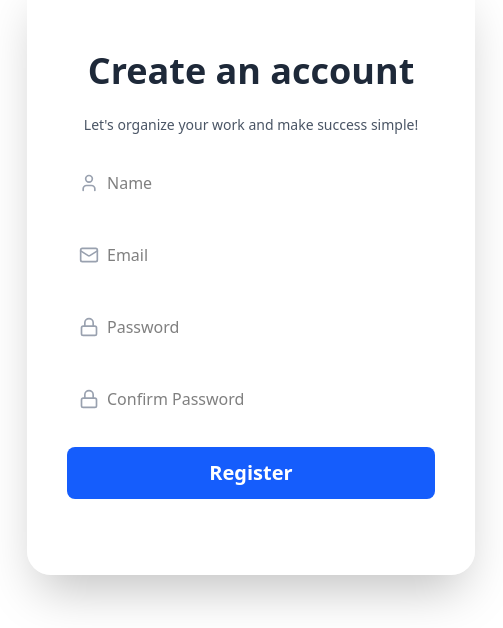
Test: Register Component › shows error when passwords do not match
Type "password123" into the password field with placeholder "Password".
click(251, 327); type("password123")  # box x1=67 y1=303 x2=435 y2=351
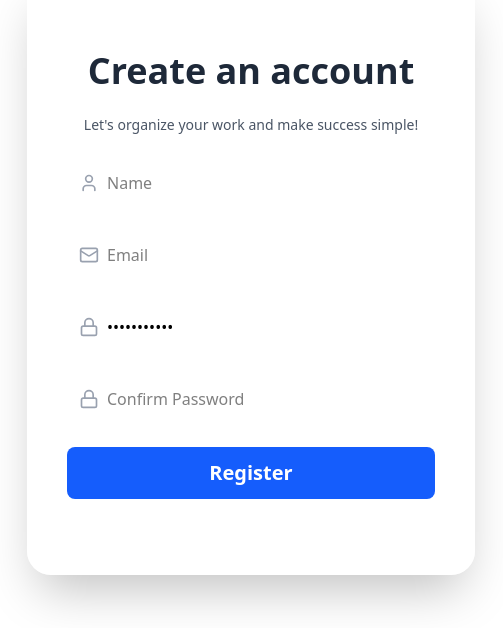
Type "password321" into the password field with placeholder "Confirm Password".
click(251, 399); type("password321")  # box x1=67 y1=375 x2=435 y2=423
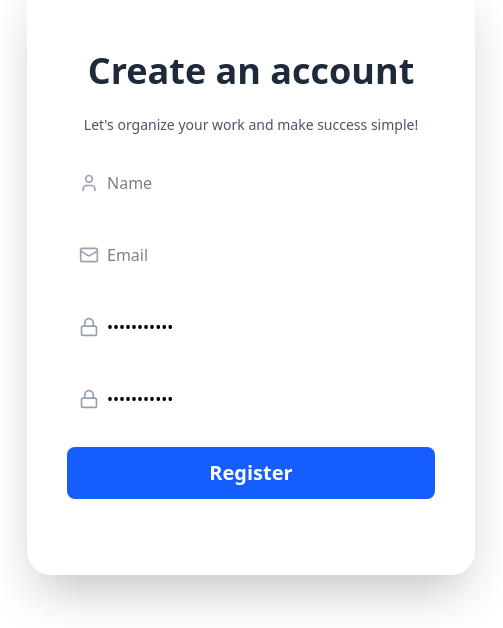
Leave the 2nd password field with placeholder "Confirm Password", box x1=67 y1=375 x2=435 y2=423
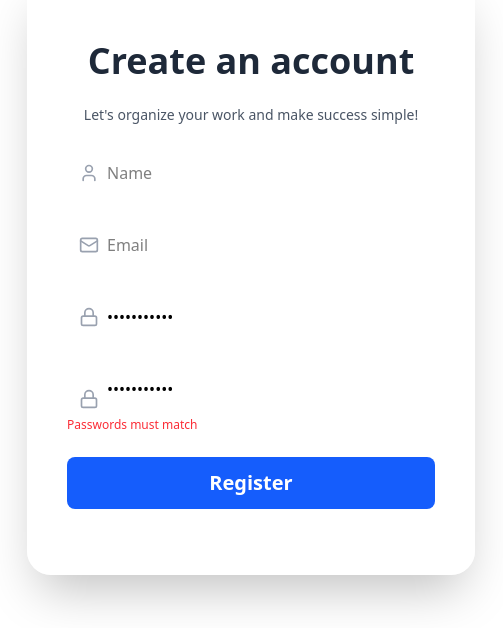
Now the text "Passwords must match" is shown, box x1=67 y1=416 x2=198 y2=433
